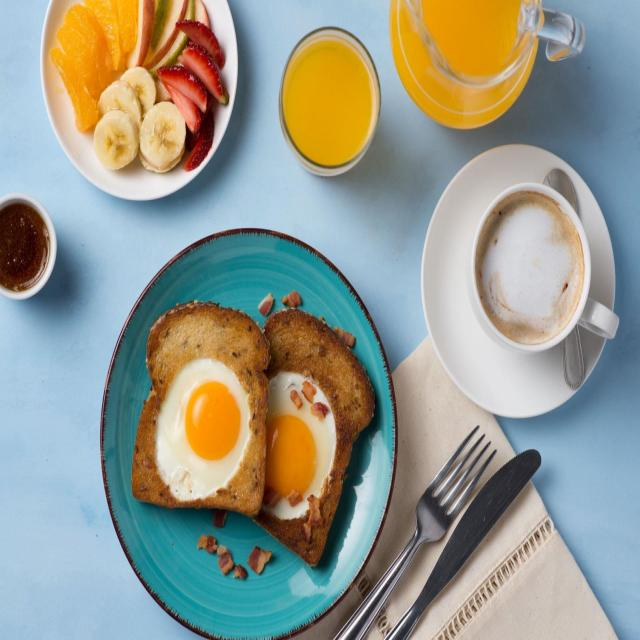huevos: (162, 352, 253, 502), (261, 368, 338, 532)
